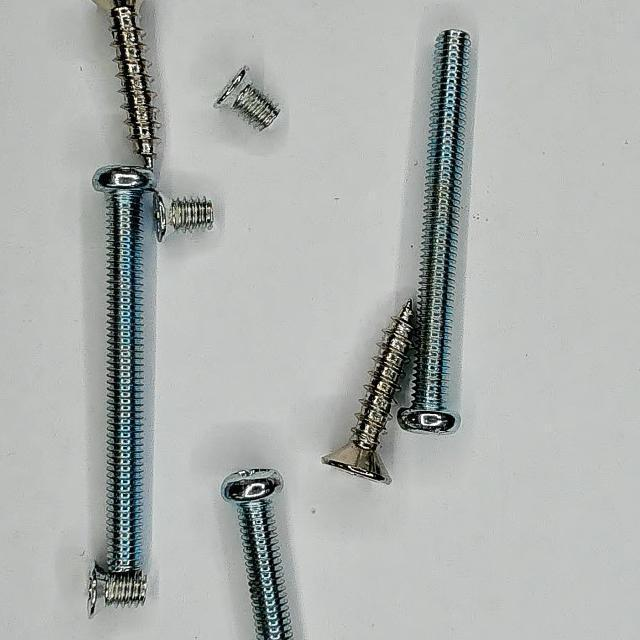Screw: (398, 29, 472, 434), (93, 166, 154, 574), (322, 301, 413, 484), (222, 470, 293, 640), (112, 0, 156, 168), (214, 65, 280, 130), (87, 566, 147, 618), (155, 192, 212, 242)
